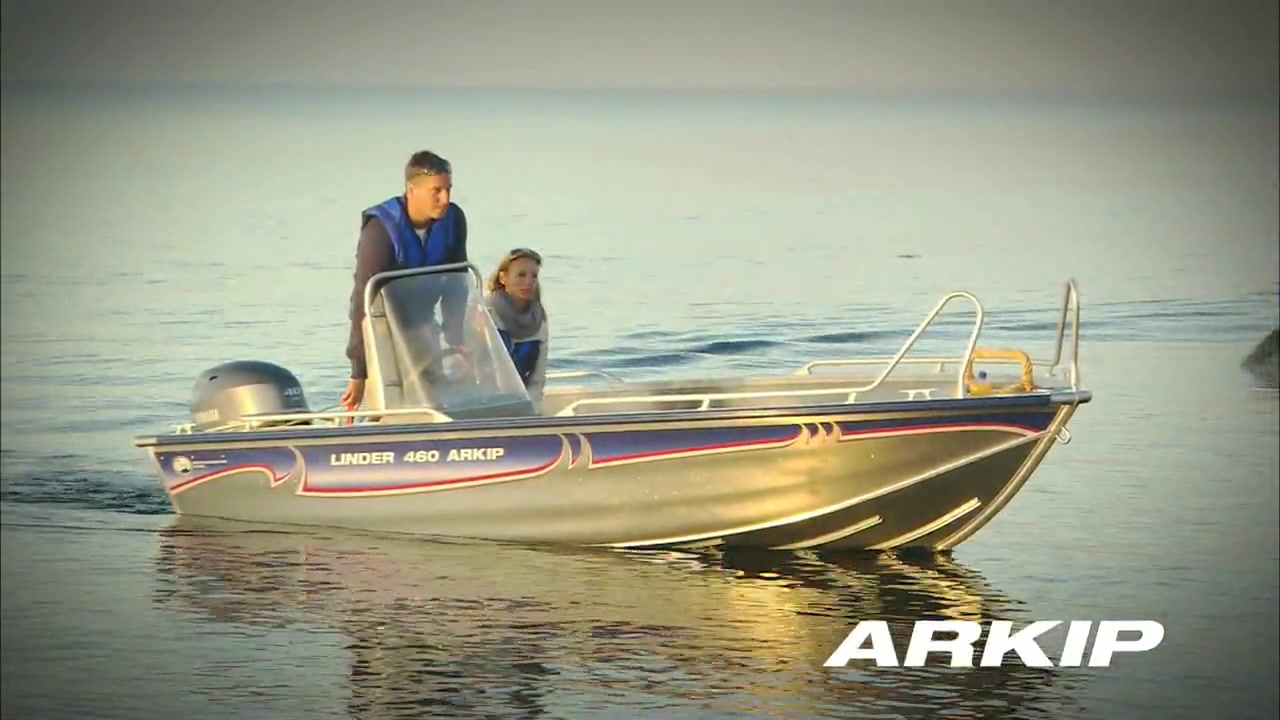boat: (131, 261, 1093, 557)
